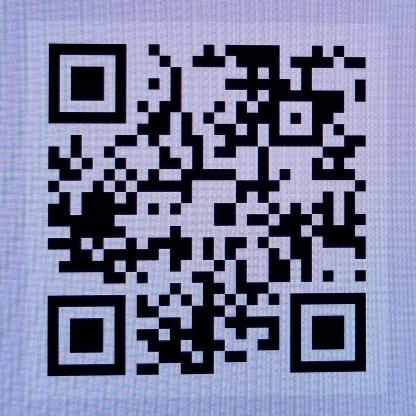qr: (43, 40, 373, 377)
